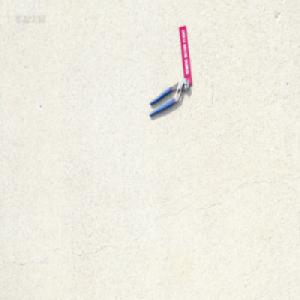Label: (177, 26, 192, 86)
Pliers: (148, 77, 190, 117)
